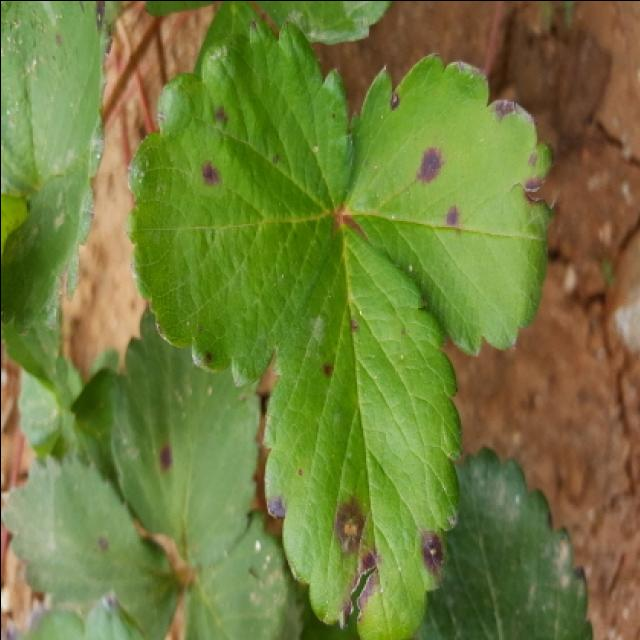Leaf Spot: (123, 15, 352, 389), (261, 219, 464, 640), (340, 53, 559, 357), (0, 2, 119, 336), (110, 307, 259, 566), (0, 454, 142, 609)
